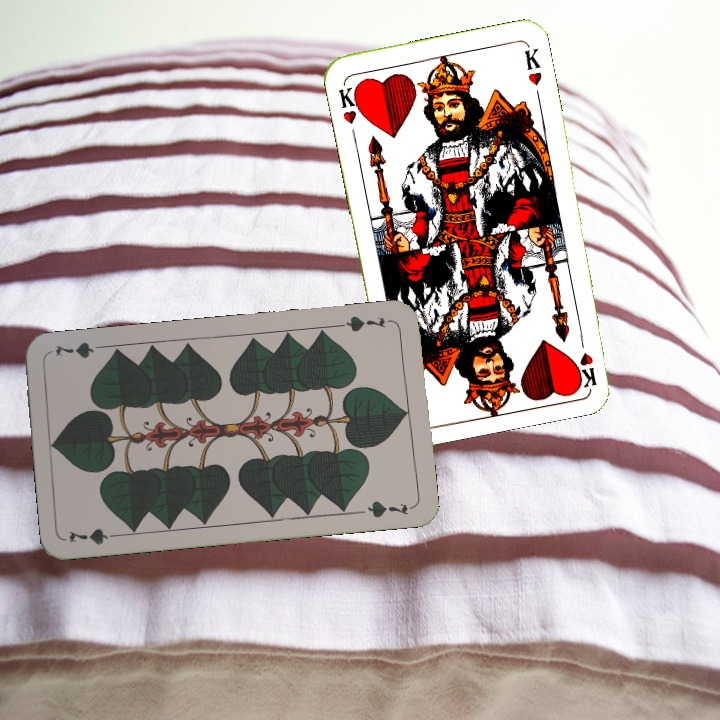G7: (65, 524, 124, 548), (336, 311, 388, 335)
HK: (335, 79, 365, 127), (575, 329, 599, 389)
